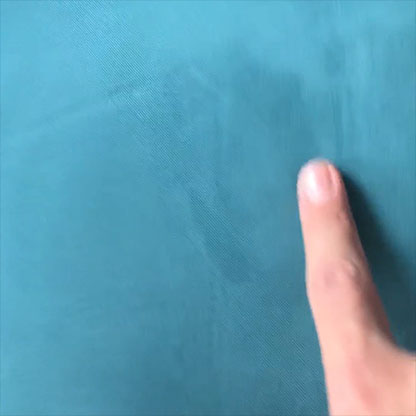fingertip: (278, 140, 359, 223)
